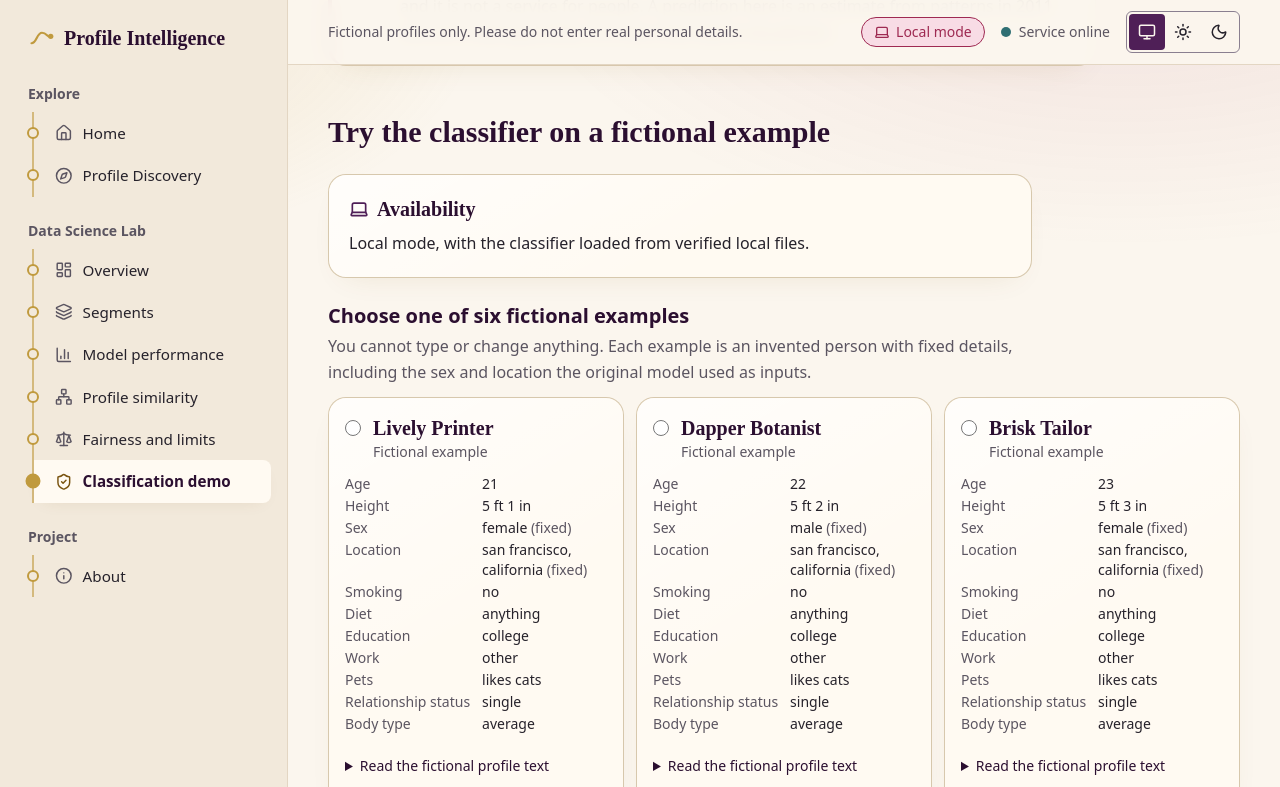
Test case: the demonstration in local mode › shows the predicted category prominently, four probabilities that sum to 100%, and the base rates
(page scrolled)
Step 1. Click the radio button labelled "Lively Printer Fictional example" → (353, 428), box [345, 420, 361, 436]
(page scrolled)
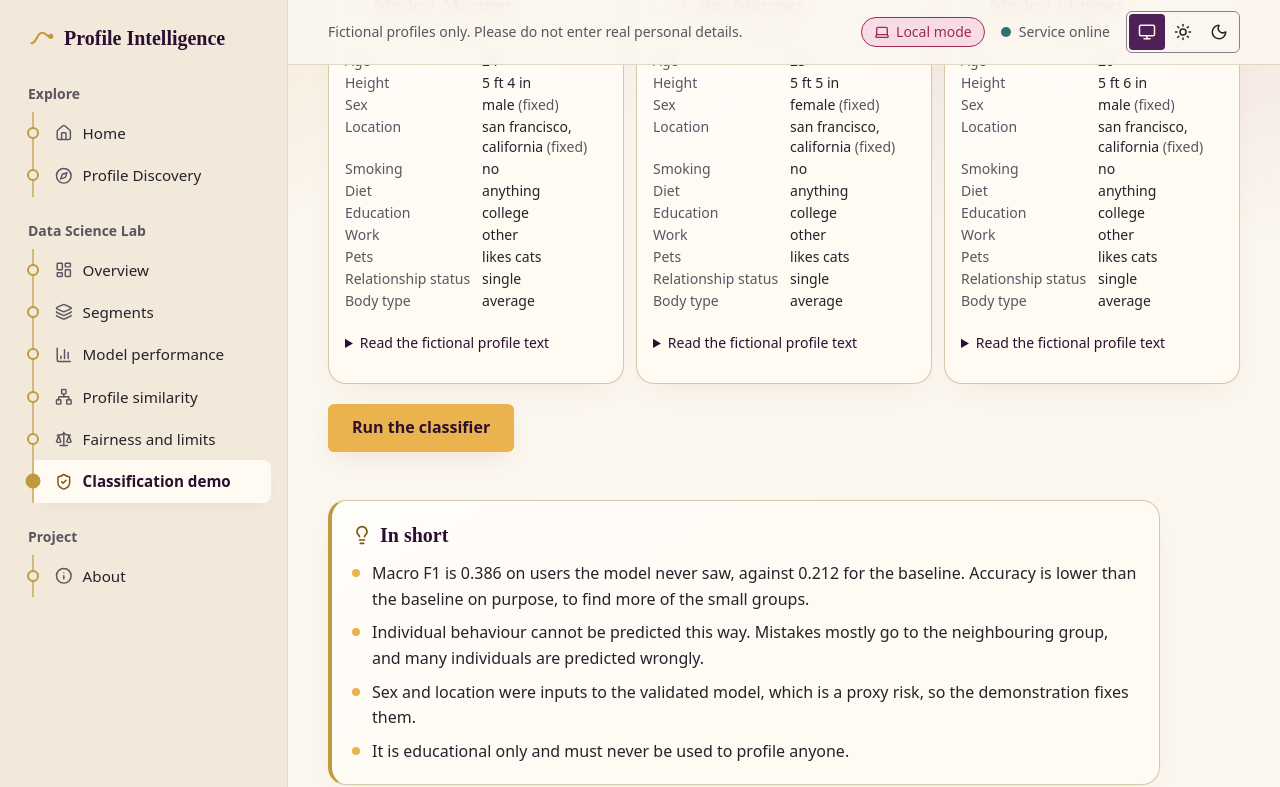
Step 2. Click the button "Run the classifier" → (421, 428), box [328, 404, 514, 452]
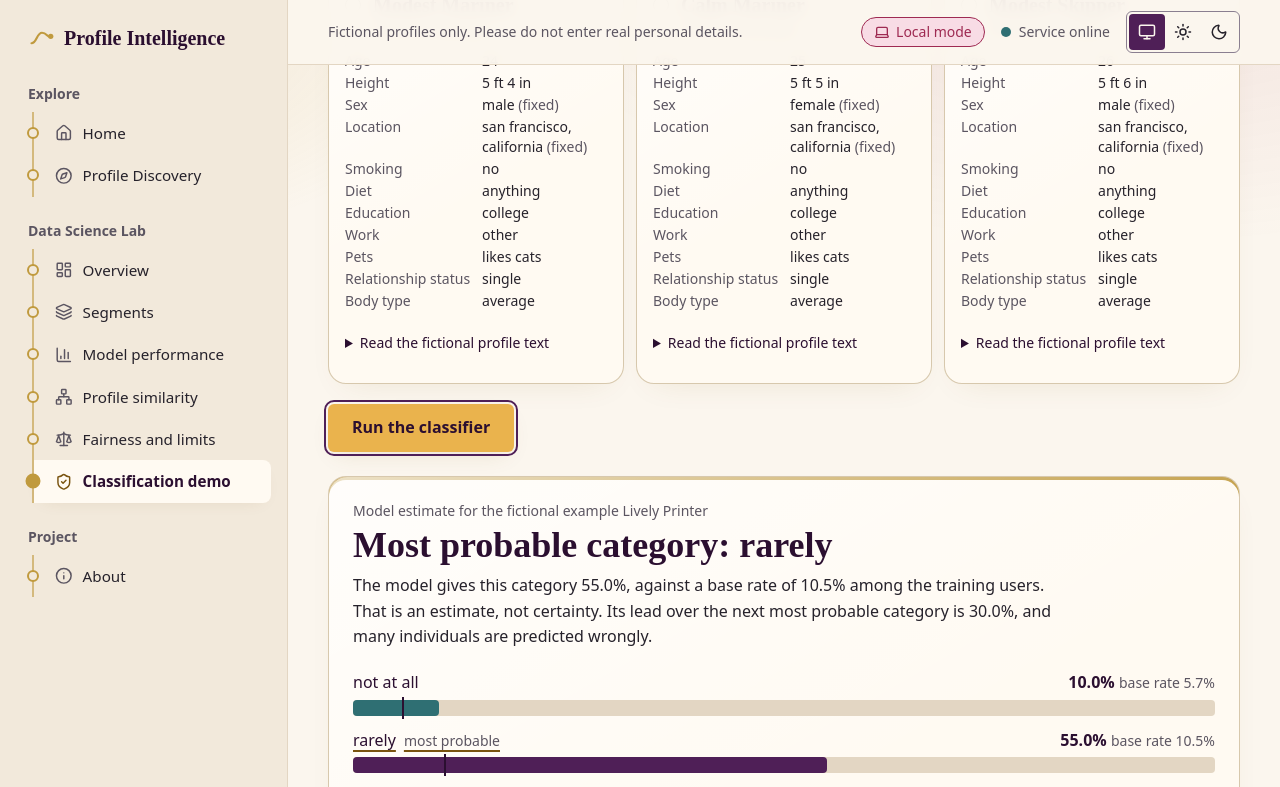
Check: the heading with test id "predicted" reads "Most probable category: rarely", box [353, 525, 833, 565]
Check: the list item with test id "prob-not at all" shows "base rate 5.7%", box [353, 670, 1215, 716]
